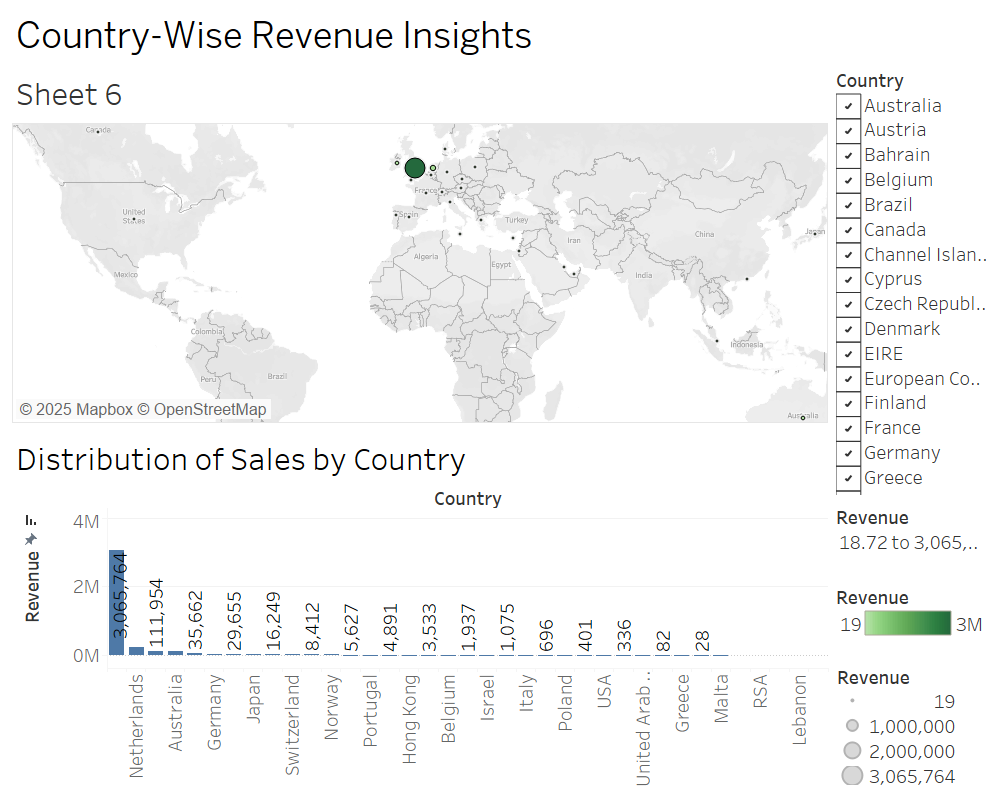

Layout of this report page (visuals, bound fields, positions):
{"tool":"tableau","page":{"name":"Dashboard 2","canvas":[1000,800],"ordinal":1},"visuals":[{"type":"title","box":[8,8,984,54]},{"type":"worksheet","title":"Sheet 6","mark":"Automatic","box":[8,62,824,365]},{"type":"filter","title":"Sheet 6","param":"[federated.1nv5bz90wlc1jn14s3rim18z5j8a].[none:Country:nk]","box":[832,62,160,438]},{"type":"worksheet","title":"Sheet 1","mark":"Bar","rows":["Revenue"],"cols":["Country"],"box":[8,427,824,365]},{"type":"filter","title":"Sheet 6","param":"[federated.1nv5bz90wlc1jn14s3rim18z5j8a].[sum:Revenue:qk]","box":[832,500,160,77]},{"type":"legend","title":"Sheet 6","param":"[federated.1nv5bz90wlc1jn14s3rim18z5j8a].[sum:Revenue:qk]","box":[832,577,160,81]},{"type":"legend","title":"Sheet 6","param":"[federated.1nv5bz90wlc1jn14s3rim18z5j8a].[sum:Revenue:qk]","box":[832,658,160,134]}]}

Visuals, with their boxes in screenshot pixels (x1, y1, x2, y2), scaled from the page's 1000x800 canvas onto the 1000x800 screenshot:
title: box(8, 8, 992, 62)
"Sheet 6" worksheet: box(8, 62, 832, 427)
"Sheet 6" filter: box(832, 62, 992, 500)
"Sheet 1" worksheet (Bar marks): box(8, 427, 832, 792)
"Sheet 6" filter: box(832, 500, 992, 577)
"Sheet 6" legend: box(832, 577, 992, 658)
"Sheet 6" legend: box(832, 658, 992, 792)
